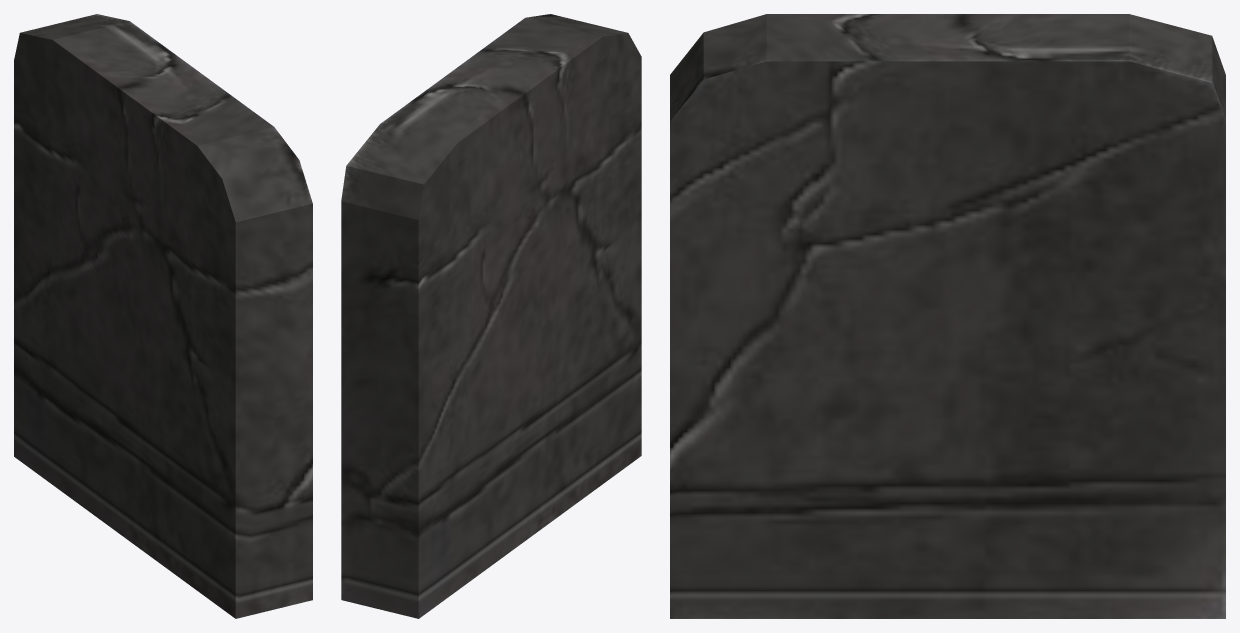
Rendered from peasant_tombstone_2_.fbx.
3 views of the same model, side by side, from view 1: azimuth 30°, elevation 25°; view 2: azimuth 150°, elevation 25°; view 3: azimuth 270°, elevation 25° (orthographic). The views are drawn at different scales.
Parts seen in each view (by area): view 1: Peasant_Tombstone_2; view 2: Peasant_Tombstone_2; view 3: Peasant_Tombstone_2.
Part boxes in pixels (x1,y1,x2,y2): Peasant_Tombstone_2: (14, 14, 312, 618); Peasant_Tombstone_2: (341, 14, 641, 618); Peasant_Tombstone_2: (670, 14, 1225, 618).
Size of the model in its own units: 0.954 by 5.22 by 4.72.
